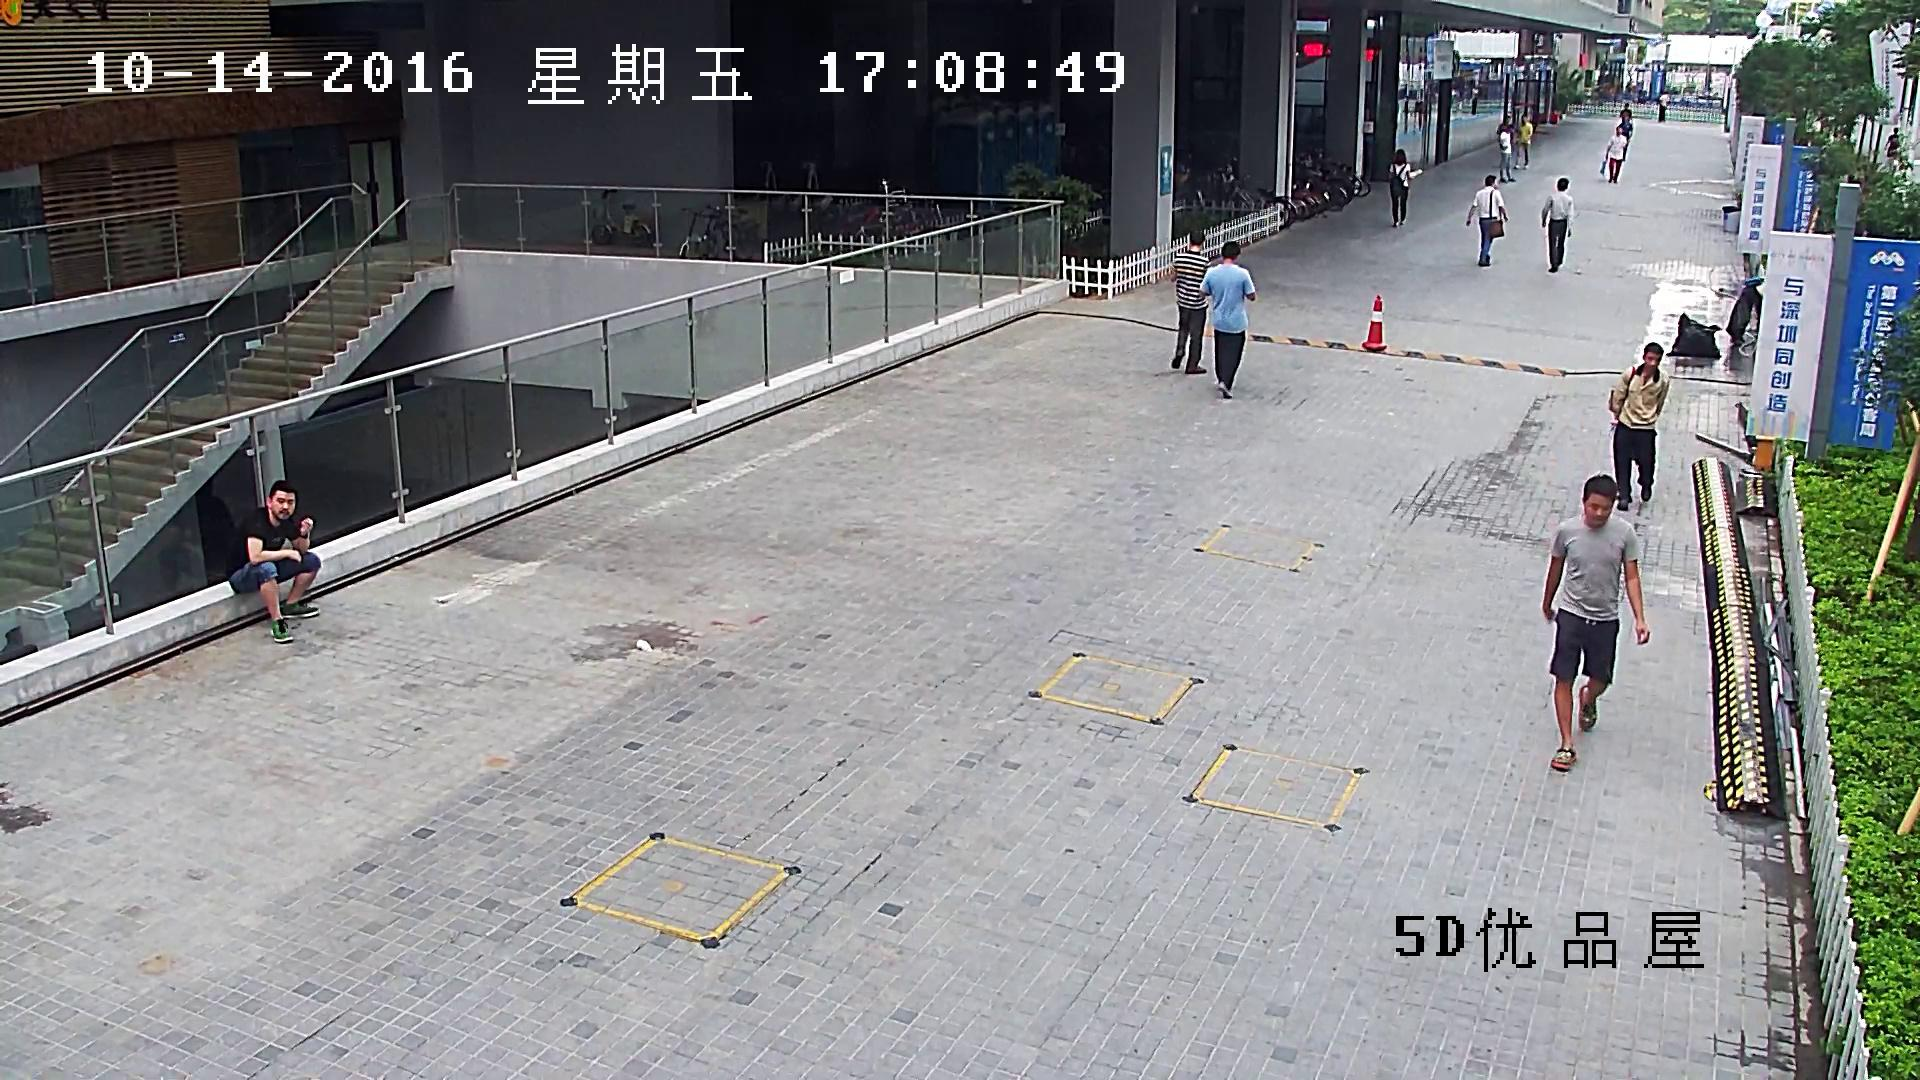person: (1542, 475, 1649, 773), (229, 480, 321, 644), (1606, 342, 1668, 511), (1198, 240, 1257, 398), (1168, 231, 1212, 376), (1465, 174, 1508, 267), (1541, 177, 1572, 274), (1388, 148, 1411, 228), (1601, 125, 1629, 183), (1498, 124, 1516, 183), (1514, 114, 1532, 169), (1617, 112, 1633, 163), (1884, 127, 1900, 160), (1496, 114, 1514, 136), (1658, 90, 1669, 121), (1618, 102, 1632, 123)
